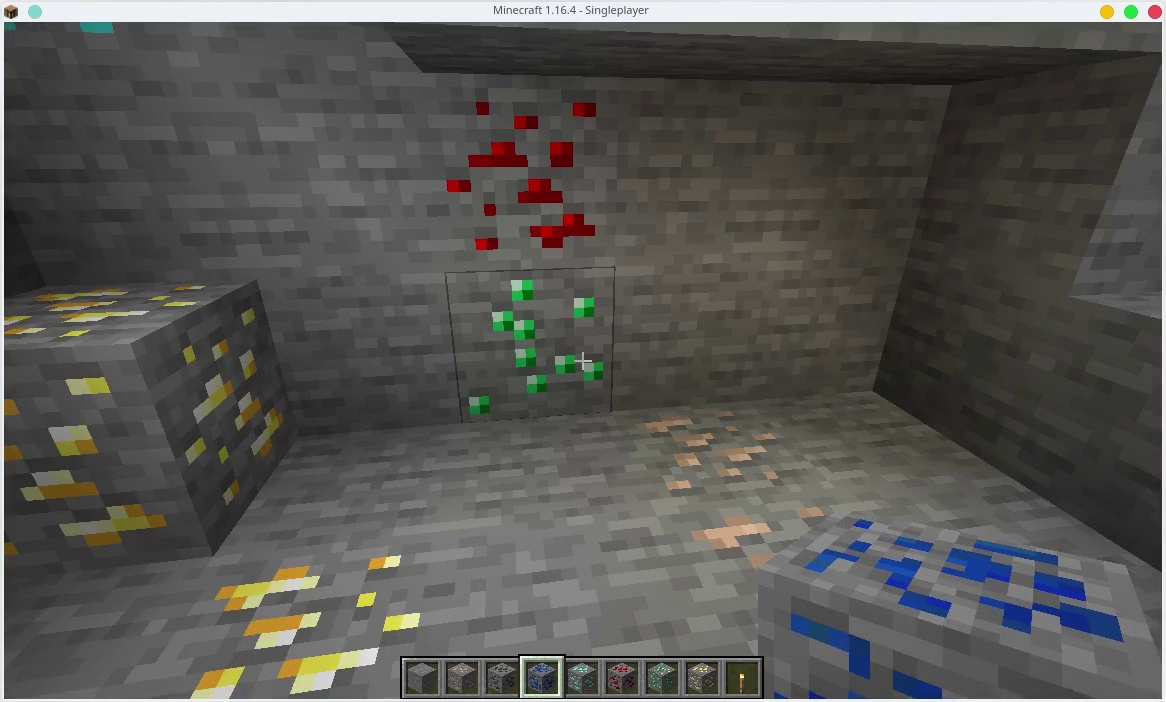gold: (1, 275, 290, 543), (177, 556, 388, 702), (687, 661, 717, 694)
